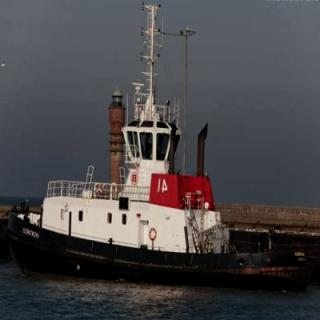Tug Boat: (1, 52, 261, 279)
